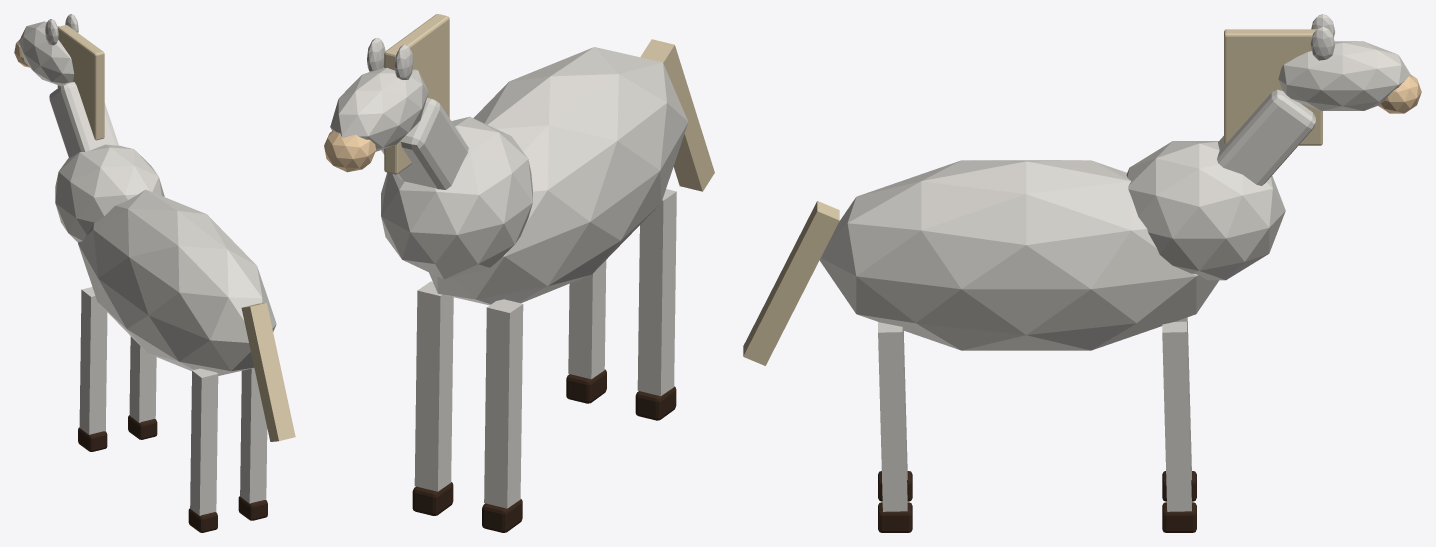
The model's file is Horse_HorseWhite.fbx.
The picture shows the model from 3 angles, left to right: view 1: azimuth 30°, elevation 25°; view 2: azimuth 150°, elevation 25°; view 3: azimuth 270°, elevation 25°; orthographic projection. The views are drawn at different scales.
Parts seen in each view (by area): view 1: HorseWhite; view 2: HorseWhite; view 3: HorseWhite.
Boxes of the visible parts, bbox=[...] form: HorseWhite: bbox=[14, 14, 295, 532]; HorseWhite: bbox=[324, 14, 714, 532]; HorseWhite: bbox=[743, 14, 1421, 532].
Size of the model in its own units: 0.6467 by 2.2 by 2.75.
